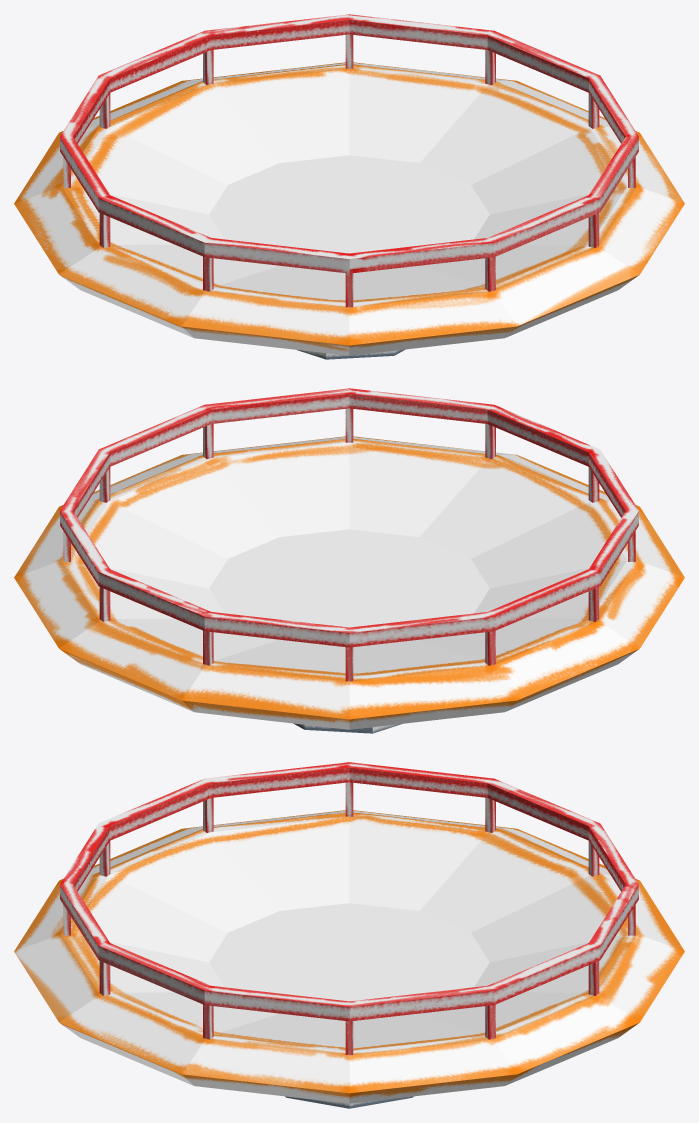
File: Carousel.fbx
3 views of the same model, one above another, from view 1: azimuth 30°, elevation 25°; view 2: azimuth 150°, elevation 25°; view 3: azimuth 270°, elevation 25° (orthographic).
Visible parts, largest first — view 1: pCylinder1; view 2: pCylinder1; view 3: pCylinder1.
Boxes of the visible parts, x1,y1,x2,y2 form: pCylinder1: (14, 14, 684, 359); pCylinder1: (14, 388, 684, 733); pCylinder1: (14, 762, 684, 1108).
Bounding box in the file's own units: 400 × 123 × 400.
